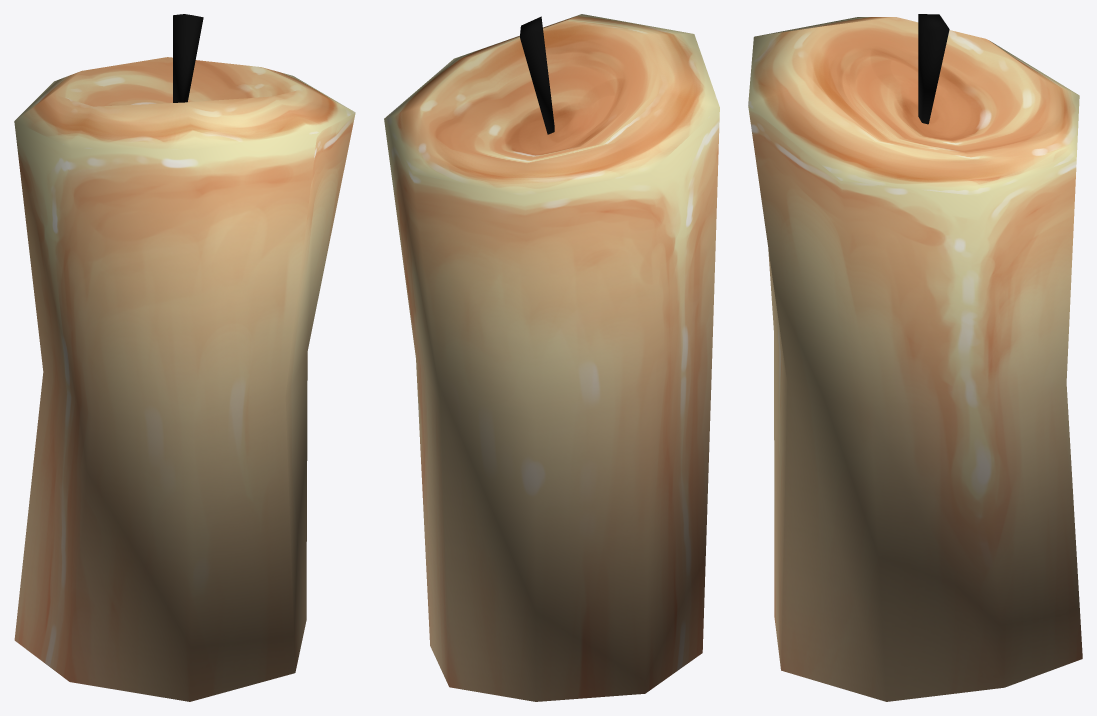
File: SM_PROP_candle_dungeon_10.fbx
3 renders of one model, left to right at view 1: azimuth 30°, elevation 25°; view 2: azimuth 150°, elevation 25°; view 3: azimuth 270°, elevation 25°, orthographic. The views are drawn at different scales.
Visible parts, largest first — view 1: SM_PROP_candle_dungeon_10; view 2: SM_PROP_candle_dungeon_10; view 3: SM_PROP_candle_dungeon_10.
Boxes of the visible parts, x1,y1,x2,y2 form: SM_PROP_candle_dungeon_10: (14,14,355,701); SM_PROP_candle_dungeon_10: (384,14,719,701); SM_PROP_candle_dungeon_10: (748,14,1082,701).
Size of the model in its own units: 10.12 by 21.39 by 10.16.
